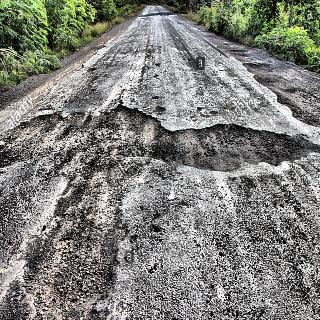pothole: (1, 104, 319, 175), (241, 58, 320, 128)
